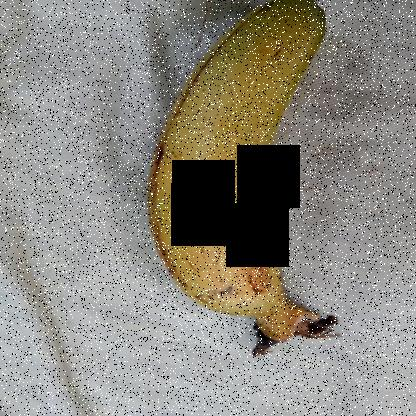ripe: (142, 1, 327, 321)
